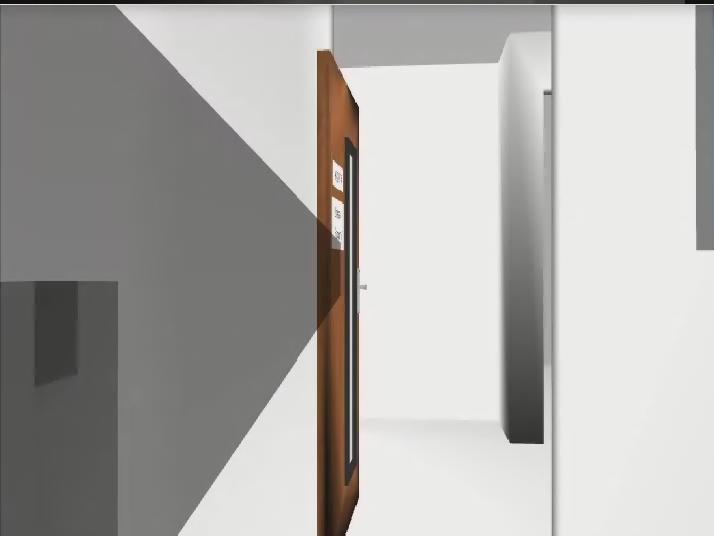door: (317, 50, 368, 536)
